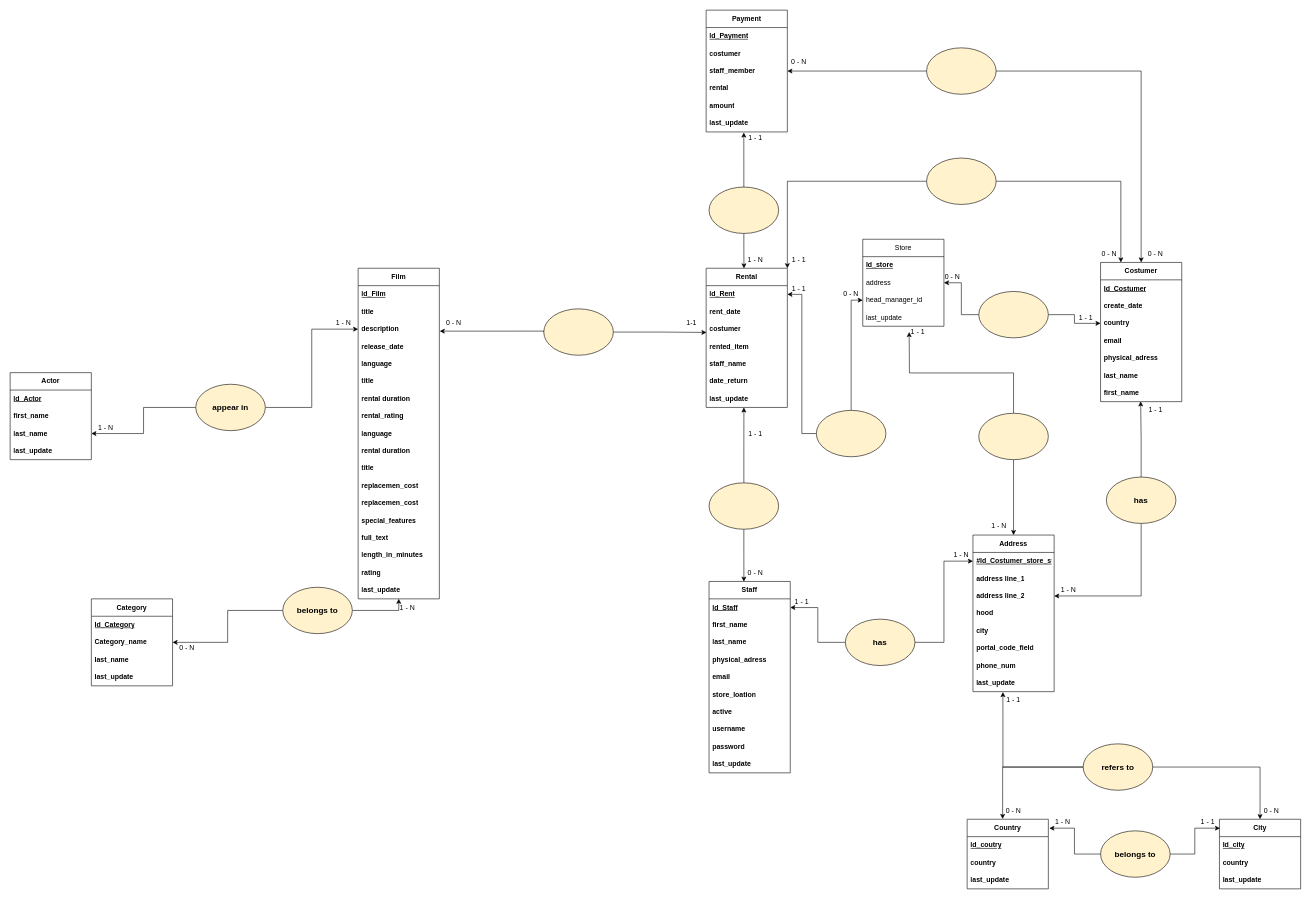
Image size: 1311x899. Some labels were removed from this diagram. Here are the shapes that lost their labels. From the top down, the centre of each, then its label:
At [961,70]: "performs".
At [961,180]: "is about".
At [743,209]: "regards".
At [578,331]: "concerrns".
At [1013,314]: "registered in".
At [851,433]: "happens in".
At [1013,436]: "locates in".
At [743,505]: "interferes".
